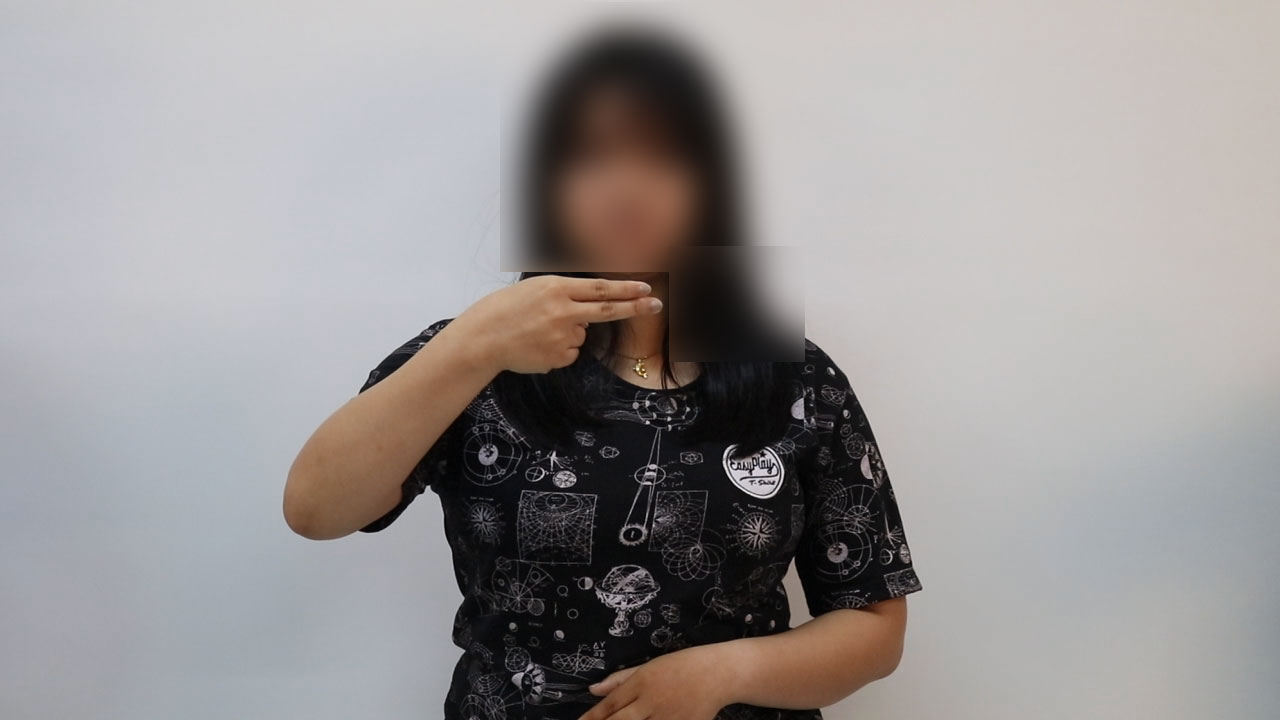hor: (454, 258, 674, 380)
